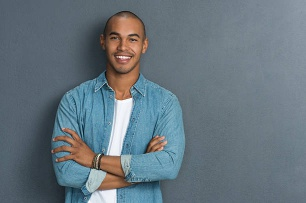male: (97, 11, 155, 80)
